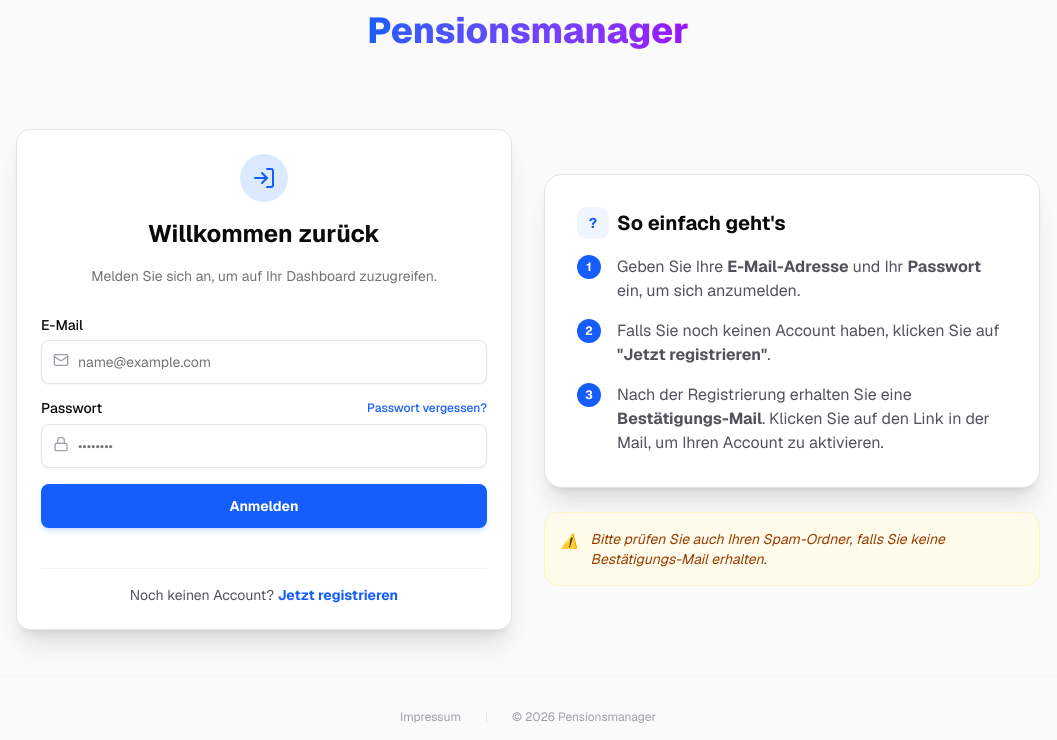
LoginPage › allows returning back to login from reset mode
Click the button "Passwort vergessen?". click: (427, 408)
box: [367,400,487,416]
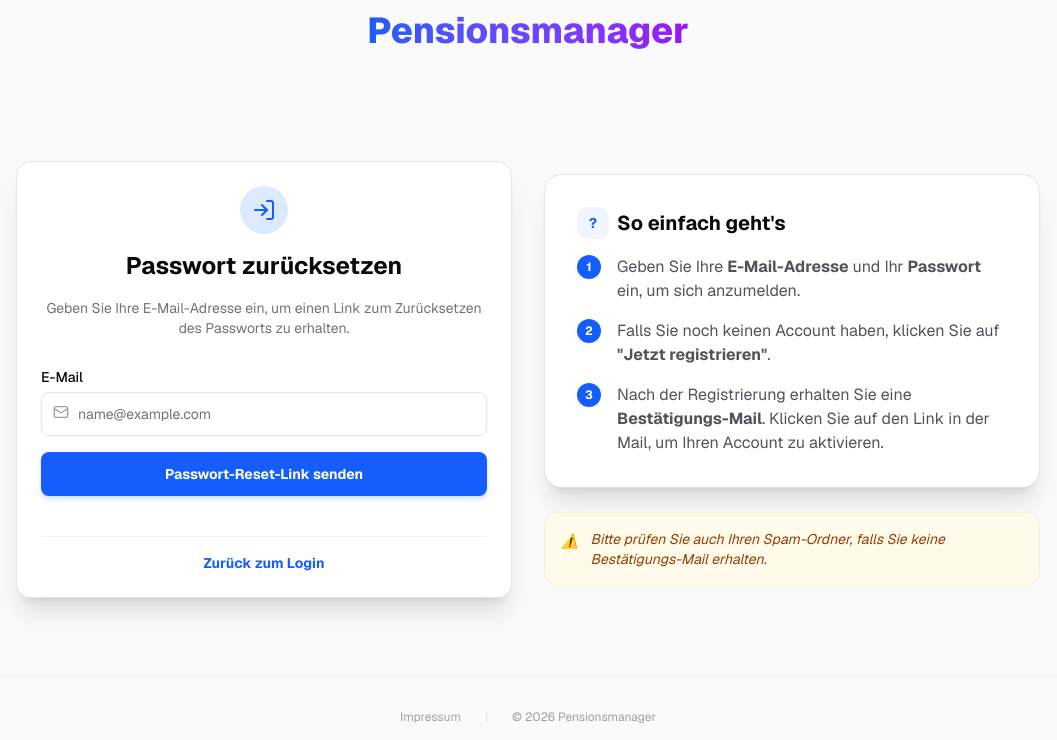
Check: the text "Passwort zurücksetzen" is shown, box [126,250,402,281]
Click the button "Zurück zum Login". click: (264, 563)
box: [203,553,324,573]
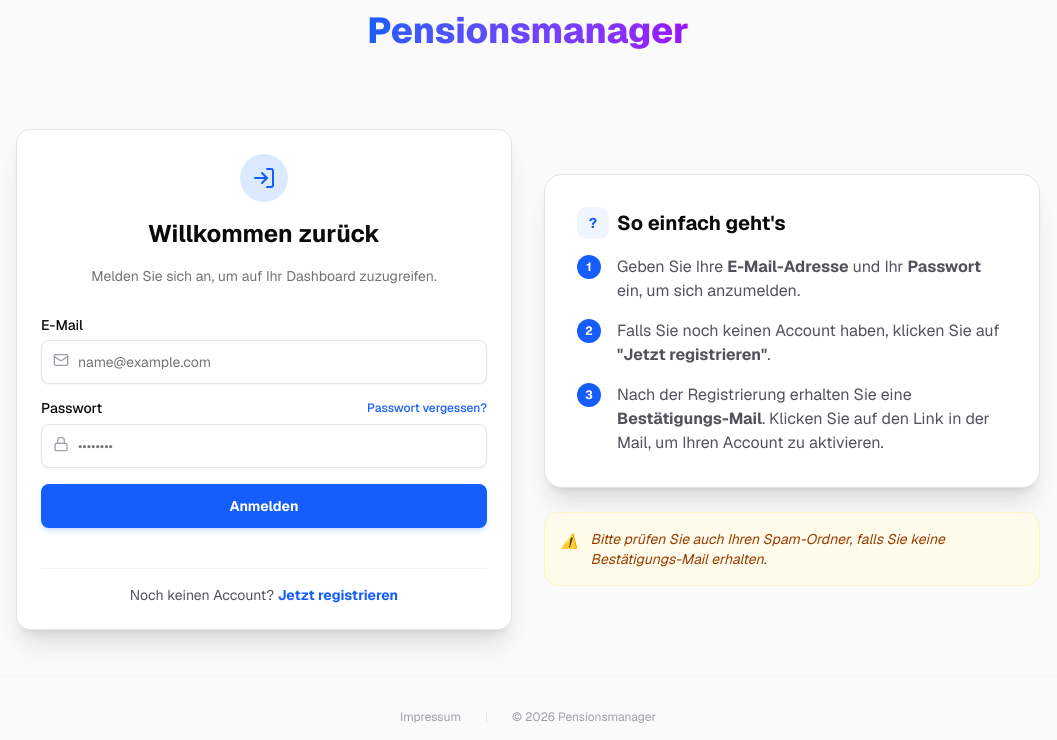
Check: the text "Willkommen zurück" is shown, box [148,218,380,249]
